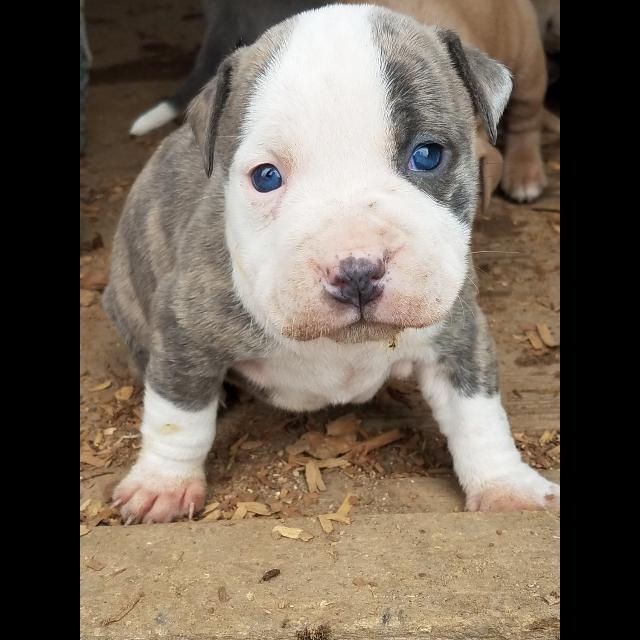am_pit_bull_terrier: (103, 3, 560, 526)
